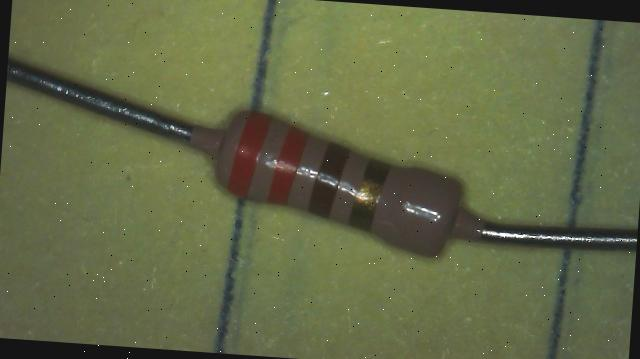brown: (309, 141, 349, 218)
gold: (350, 159, 388, 231)
orange: (227, 110, 270, 198), (268, 124, 309, 205)
resistor: (186, 73, 505, 284)
